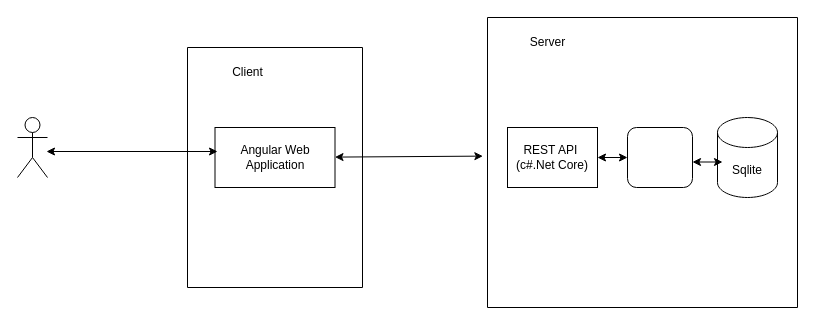
This 815x325 diagram has some shape labels left out. The centre of each missing label's shape, as x and y in pixels:
Entity Framework: the point at 659,157
User: the point at 32,147
